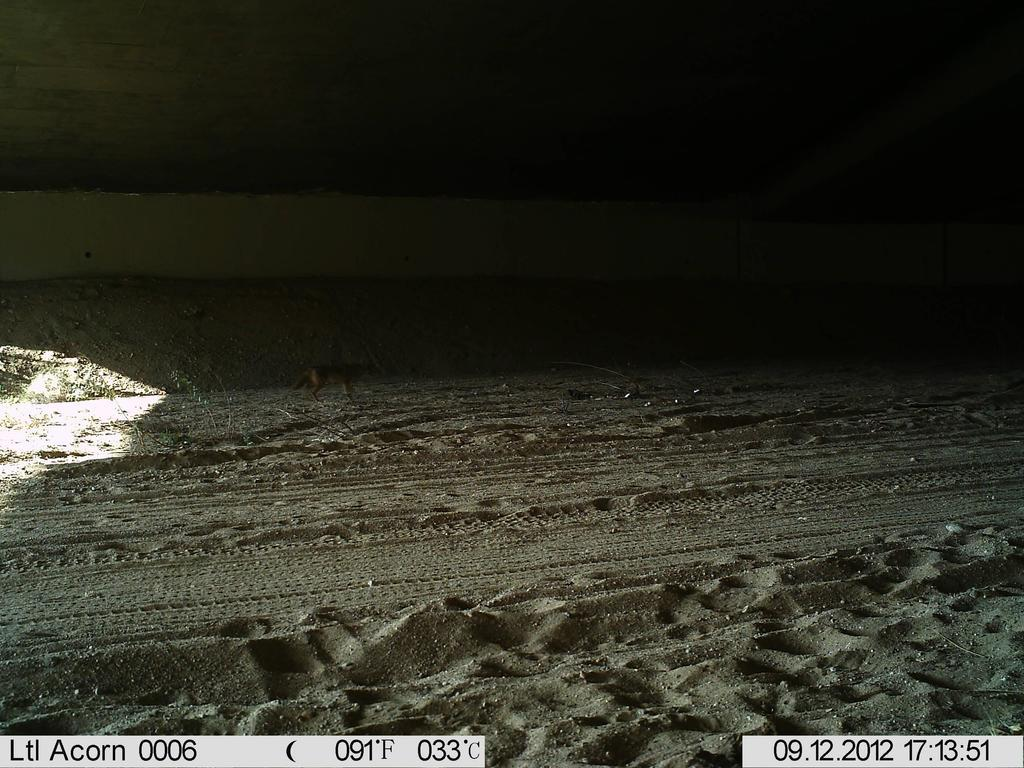coyote: (287, 354, 379, 407)
